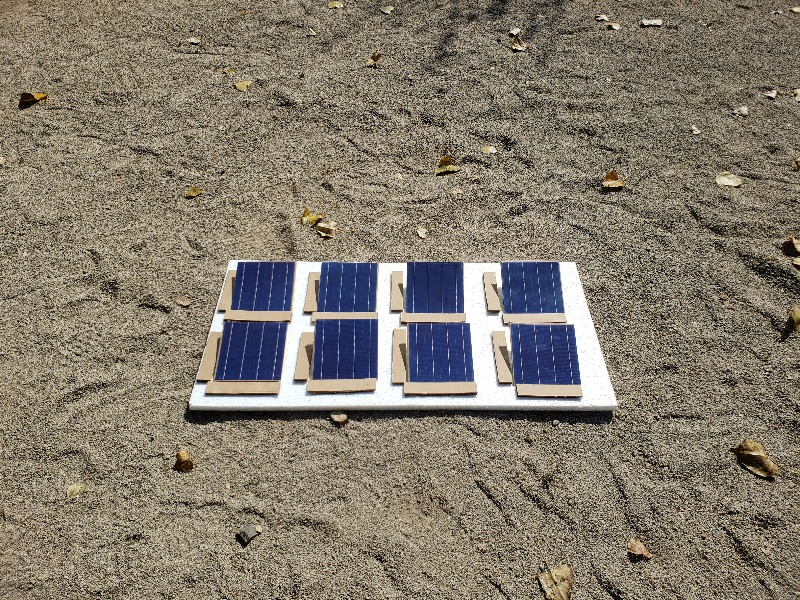clean: (504, 320, 586, 389), (217, 322, 289, 383), (404, 322, 475, 383), (312, 320, 380, 381), (228, 258, 300, 312), (499, 260, 567, 314), (404, 259, 466, 313), (321, 259, 378, 314)
